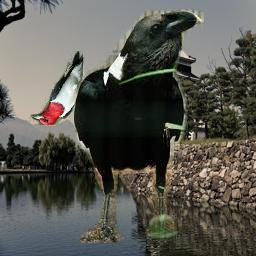Crow: (74, 9, 204, 243)
Woodpecker: (29, 51, 85, 125)
